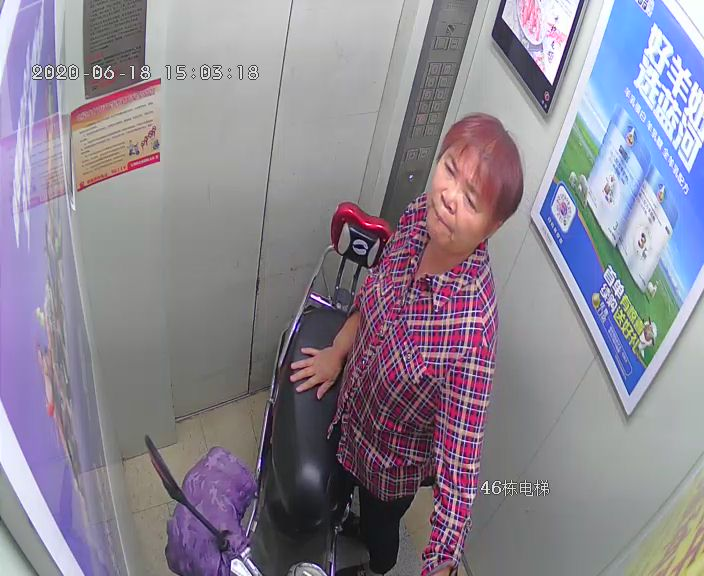Electric-bicycle: (140, 208, 391, 576)
